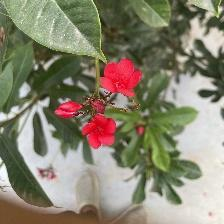jatropha: (97, 57, 147, 103)
